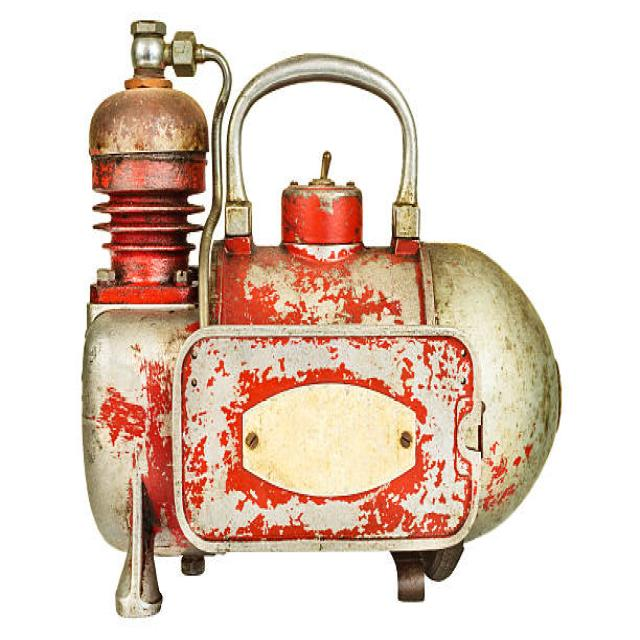compressor: (79, 17, 564, 620)
corrosion detected: (175, 328, 483, 547), (278, 148, 364, 250)
